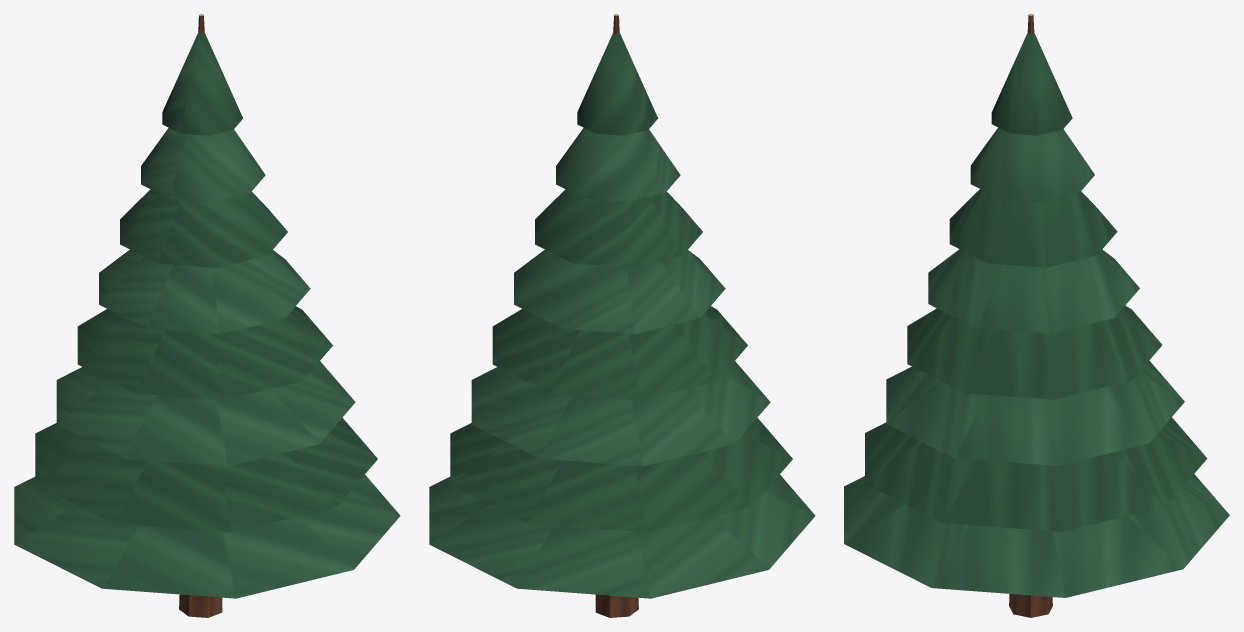
Rendered from SM_Tree_Spruce01.fbx.
3 views of the same model, side by side, from view 1: azimuth 30°, elevation 25°; view 2: azimuth 150°, elevation 25°; view 3: azimuth 270°, elevation 25° (orthographic).
Visible parts, largest first — view 1: SM_Tree_Spruce01; view 2: SM_Tree_Spruce01; view 3: SM_Tree_Spruce01.
Boxes of the visible parts, <box> form: SM_Tree_Spruce01: <box>14,14,400,617</box>; SM_Tree_Spruce01: <box>429,14,815,617</box>; SM_Tree_Spruce01: <box>844,14,1229,617</box>.
Size of the model in its own units: 12.21 by 20.41 by 12.03.
1 material, 1 textured.
